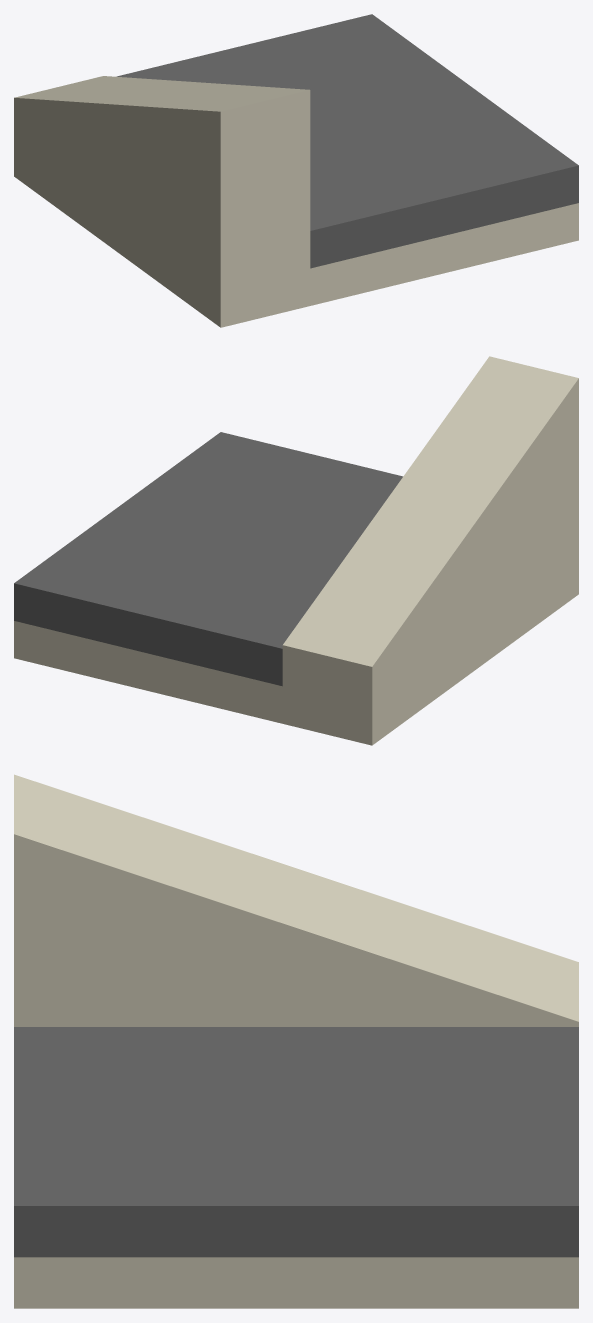
File: roadTile_089.fbx
3 renders of one model, top to bottom at view 1: azimuth 30°, elevation 25°; view 2: azimuth 150°, elevation 25°; view 3: azimuth 270°, elevation 25°, orthographic. The views are drawn at different scales.
Parts seen in each view (by area): view 1: roadTile_089; view 2: roadTile_089; view 3: roadTile_089.
Boxes of the visible parts, x1=… form: roadTile_089: x1=14, y1=14, x2=578, y2=327; roadTile_089: x1=14, y1=356, x2=578, y2=745; roadTile_089: x1=14, y1=774, x2=578, y2=1308.
Bounding box in the file's own units: 118 × 68.11 × 118.
